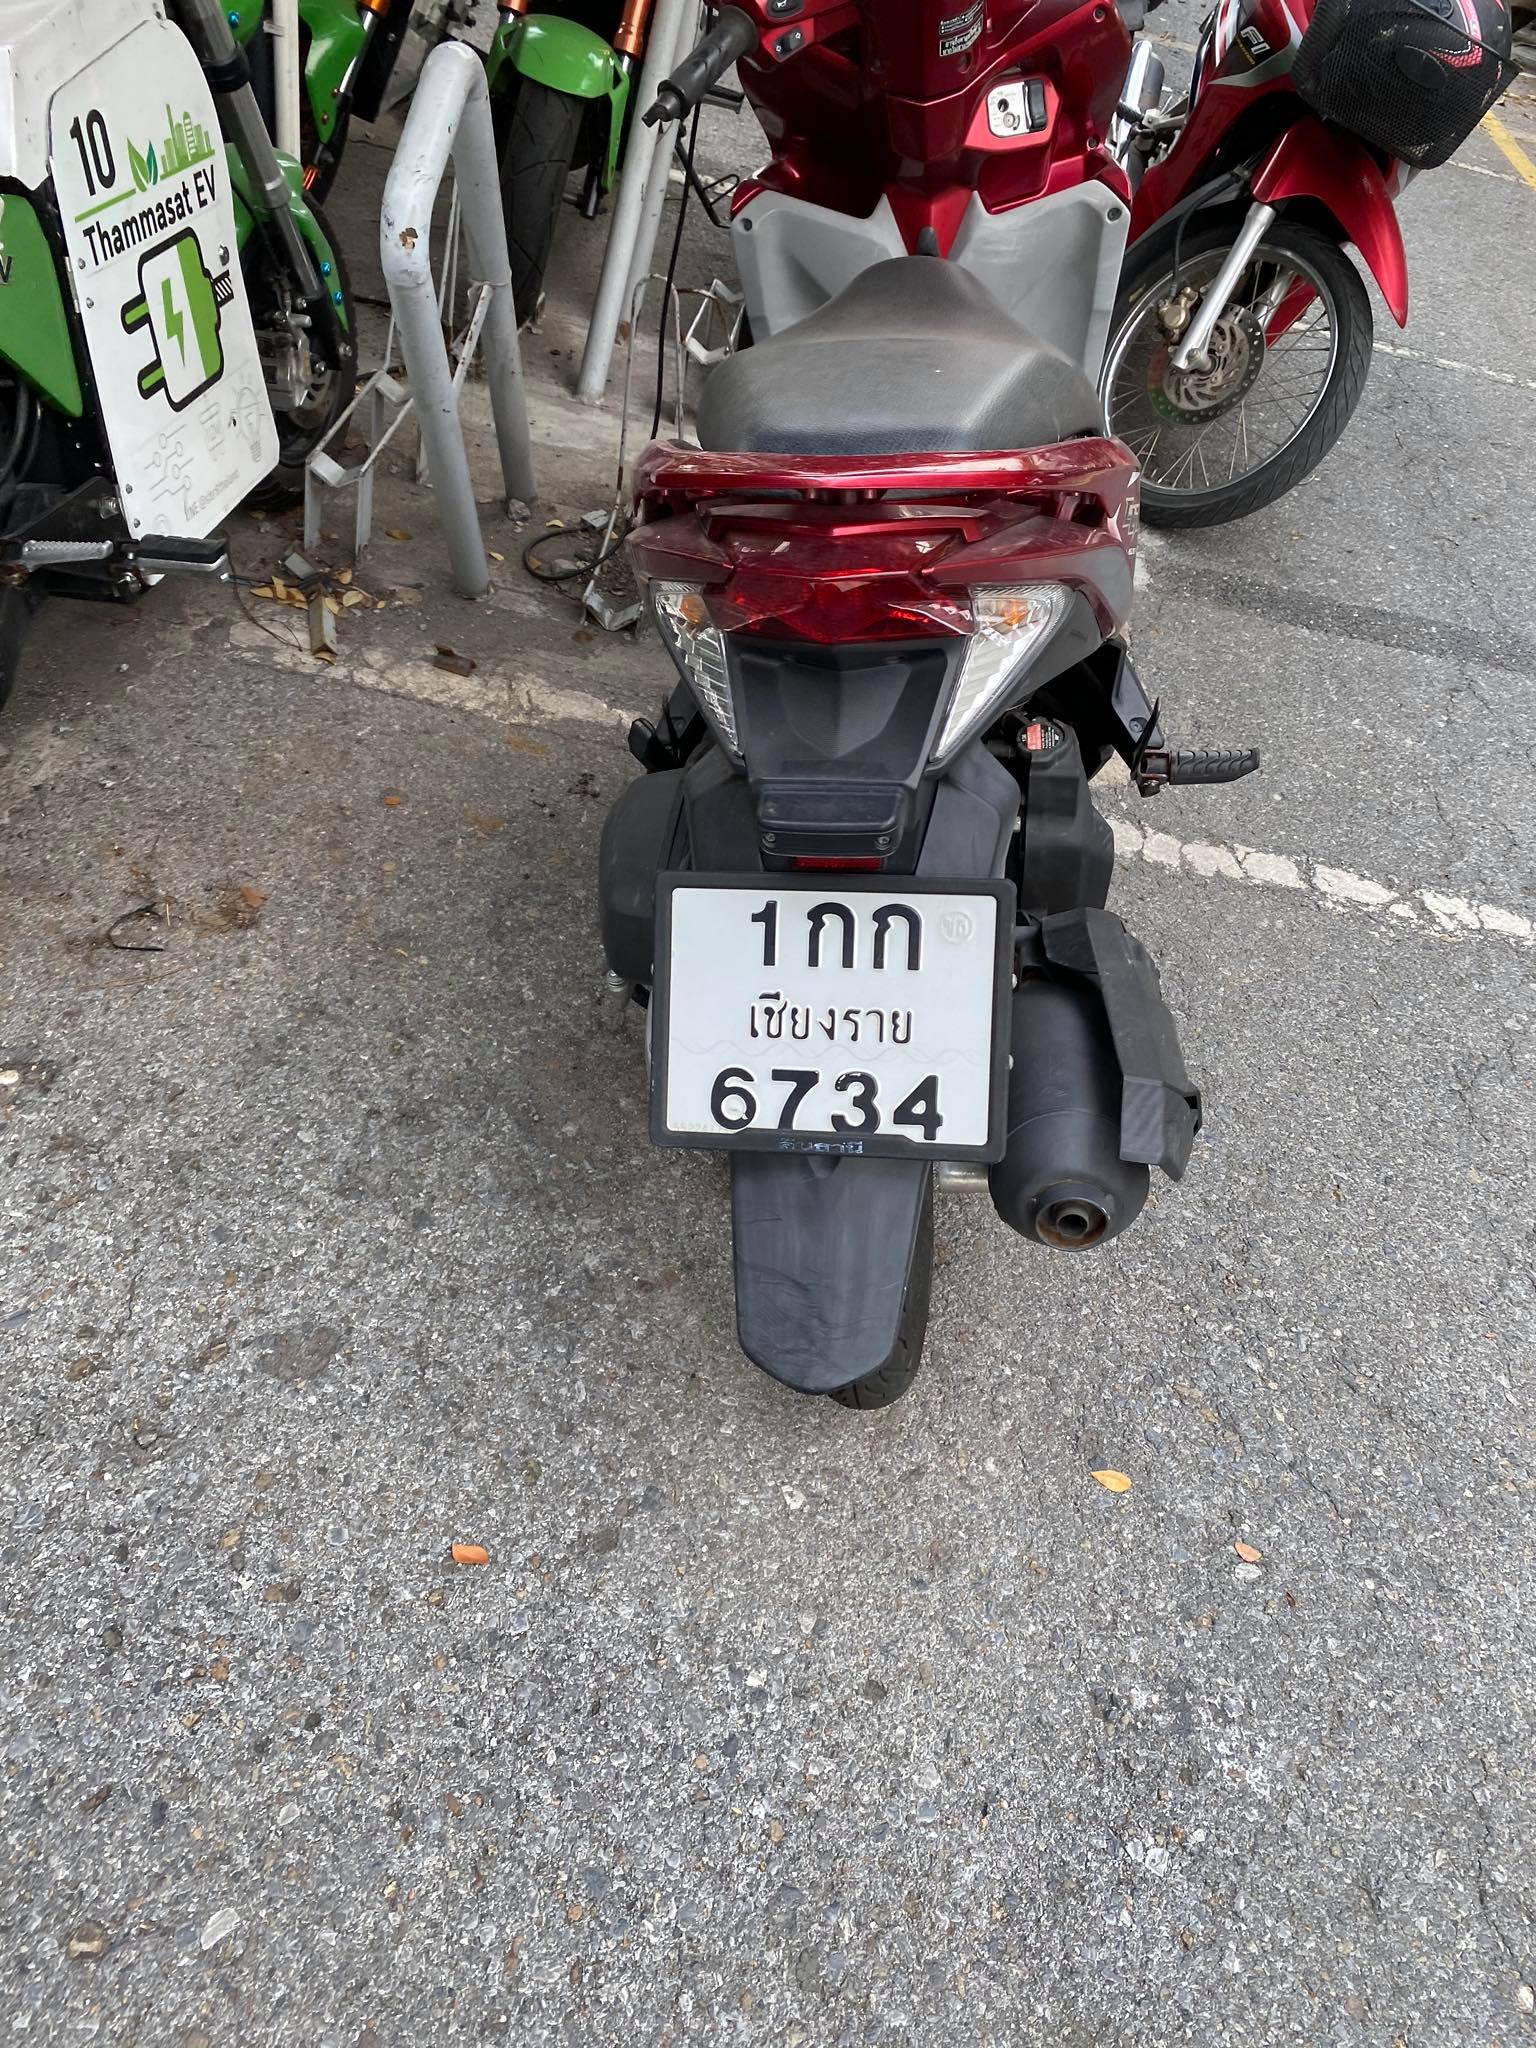line1: (724, 889, 954, 977)
line2: (721, 980, 933, 1051)
line3: (691, 1058, 963, 1138)
